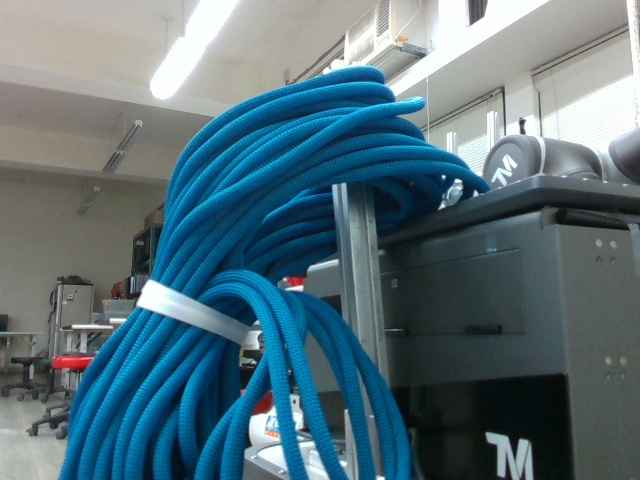rope: (56, 62, 413, 480)
